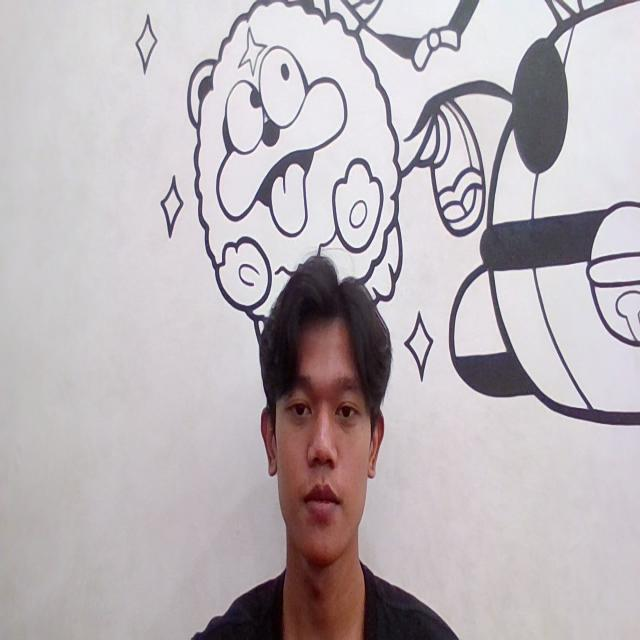sem_oculos: (268, 360, 384, 436)
